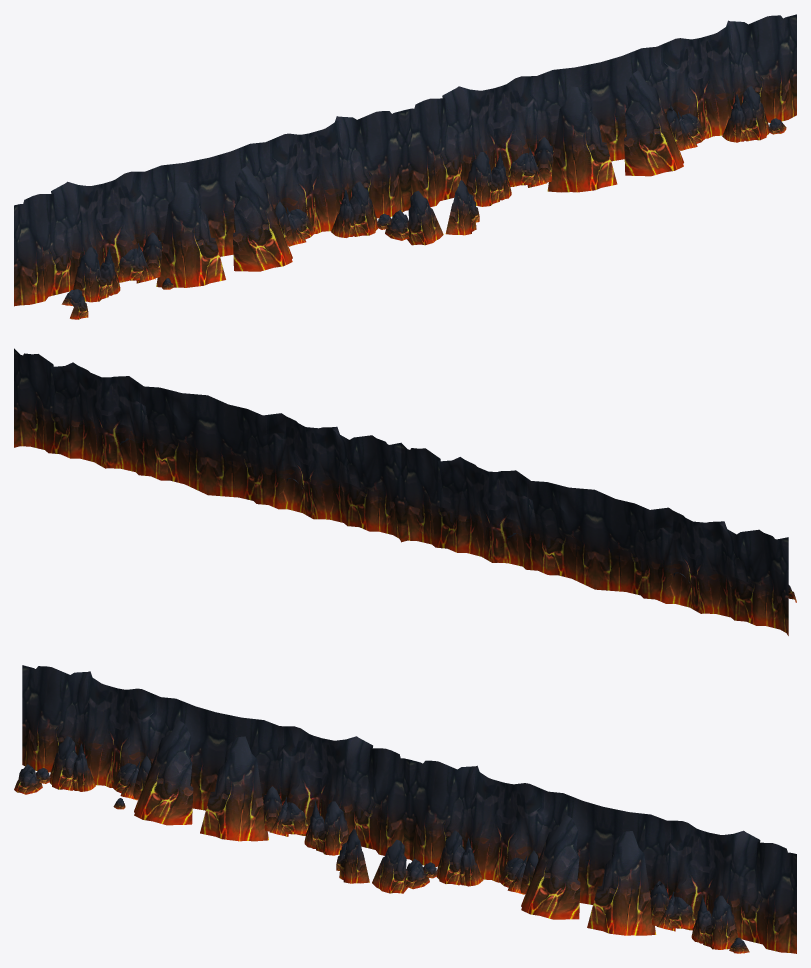
Rendered from chnagjing_sjb_09.FBX.
The picture shows the model from 3 angles, top to bottom: view 1: azimuth 30°, elevation 25°; view 2: azimuth 150°, elevation 25°; view 3: azimuth 330°, elevation 25°; orthographic projection.
Parts seen in each view (by area): view 1: chnagjing_sjb_09; view 2: chnagjing_sjb_09; view 3: chnagjing_sjb_09.
Boxes of the visible parts, box(x1,y1,x2,y2) form: chnagjing_sjb_09: box(14, 14, 796, 319); chnagjing_sjb_09: box(14, 348, 796, 635); chnagjing_sjb_09: box(14, 665, 796, 953).
Bounding box in the file's own units: 5735 × 654 × 746.
